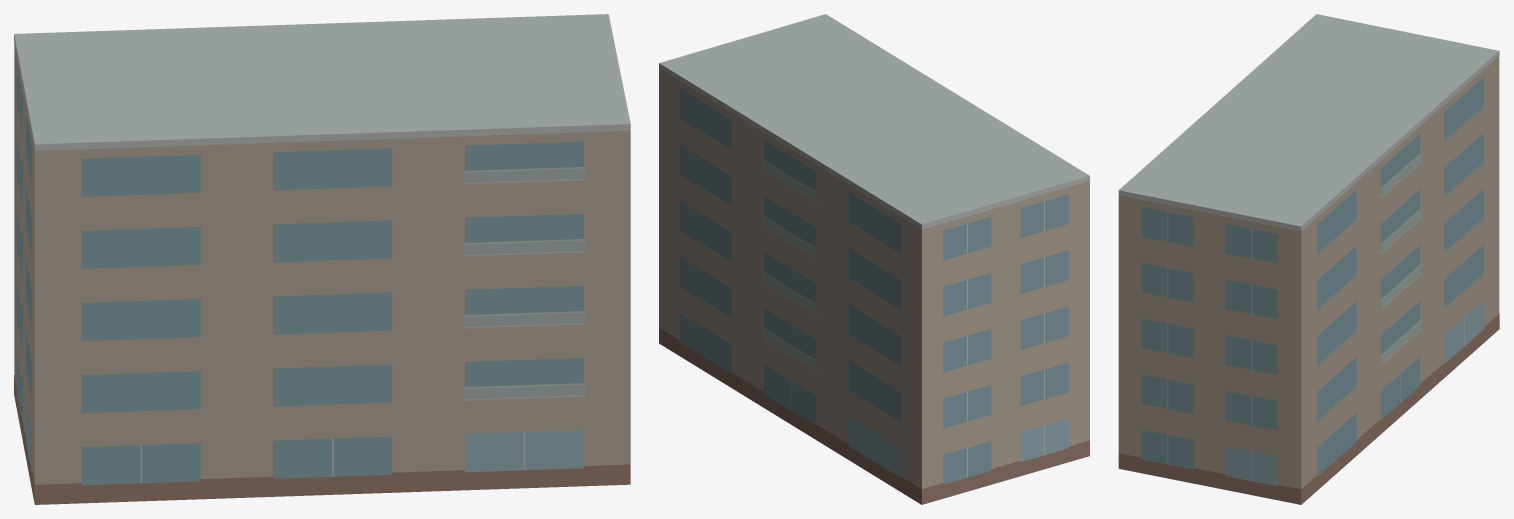
The model's file is survey-upis-32964801.glb.
The picture shows the model from 3 angles, left to right: view 1: azimuth 30°, elevation 25°; view 2: azimuth 150°, elevation 25°; view 3: azimuth 270°, elevation 25°; orthographic projection. The views are drawn at different scales.
Parts seen in each view (by area): view 1: survey-upis-32964801.tmp; view 2: survey-upis-32964801.tmp; view 3: survey-upis-32964801.tmp.
Part boxes in pixels (x1=…): survey-upis-32964801.tmp: x1=14, y1=14, x2=630, y2=504; survey-upis-32964801.tmp: x1=659, y1=14, x2=1089, y2=504; survey-upis-32964801.tmp: x1=1118, y1=14, x2=1499, y2=504.
Bounding box in the file's own units: 21.62 × 13.2 × 16.37.
